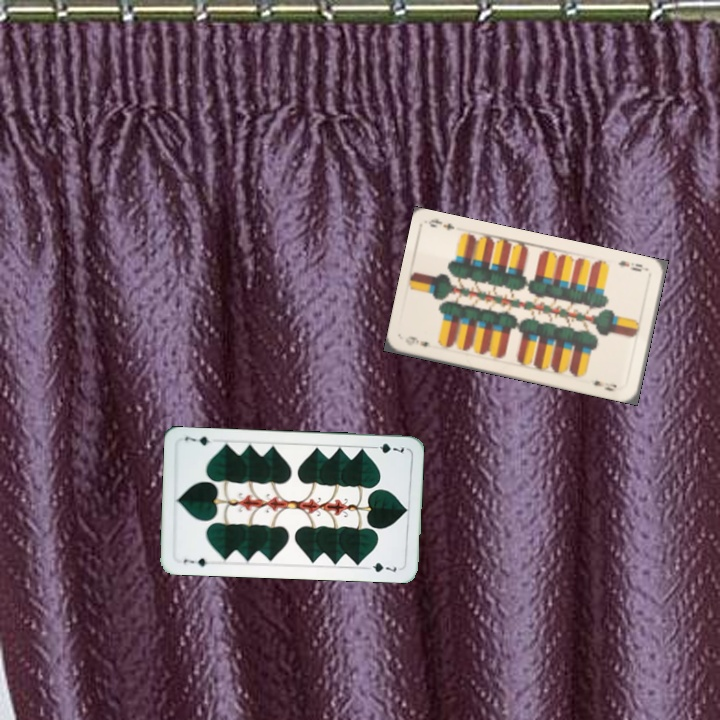E9: (614, 256, 650, 274), (401, 332, 432, 349)
G7: (367, 439, 406, 456), (180, 554, 210, 569)
